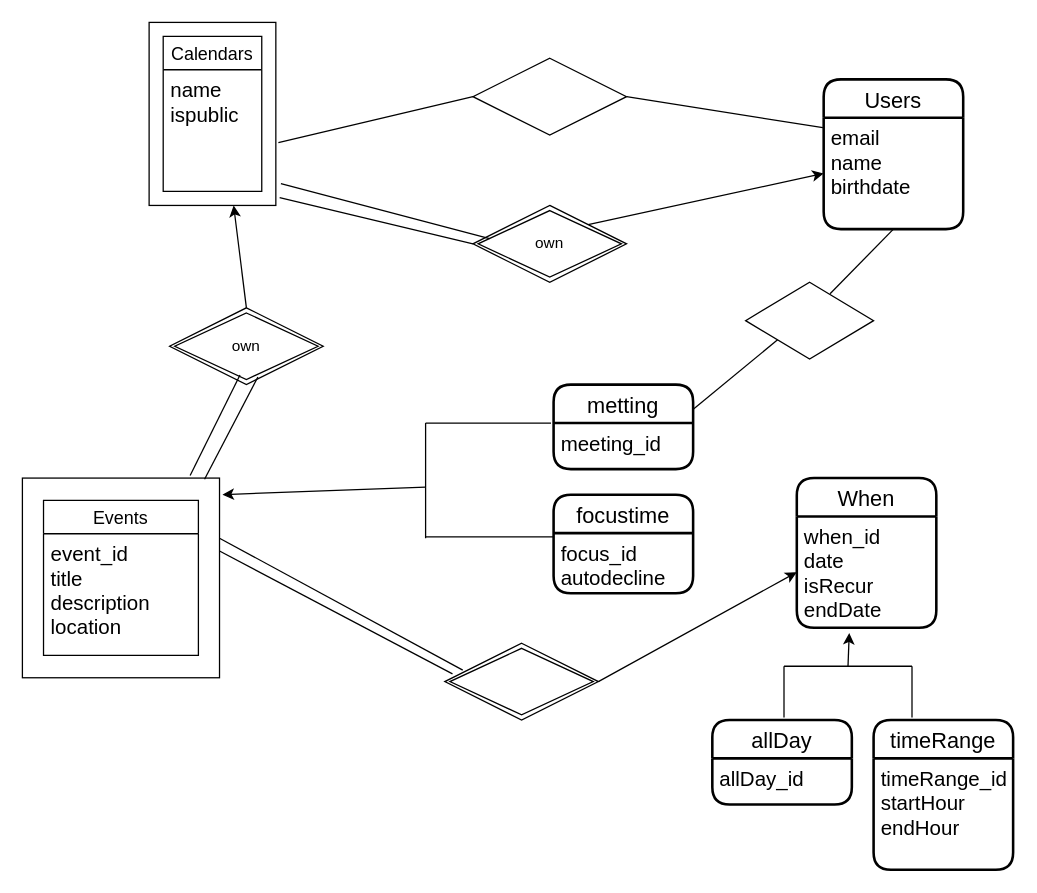
This 1037x893 diagram has some shape labels left out. The shapes that lost their labels are listed below. From the top down, each one's centre as x and y in pixels, then its label:
(549,96): share
(809,320): invite
(521,681): occur
